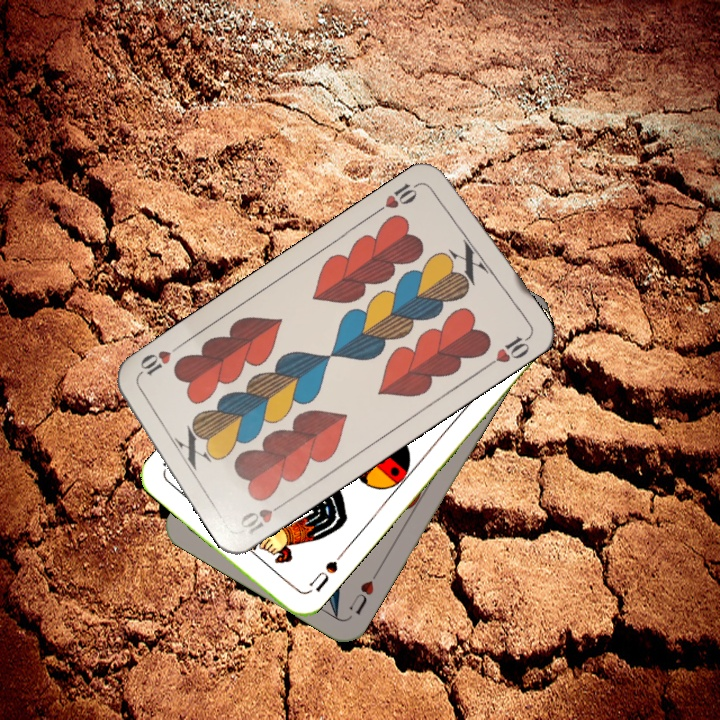H10: (236, 496, 290, 538), (373, 177, 426, 215)
HU: (345, 566, 382, 618)
SU: (302, 548, 346, 597)
